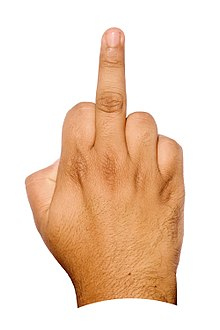finger: (95, 26, 128, 144), (125, 105, 160, 156), (60, 98, 97, 143), (158, 127, 186, 178)
